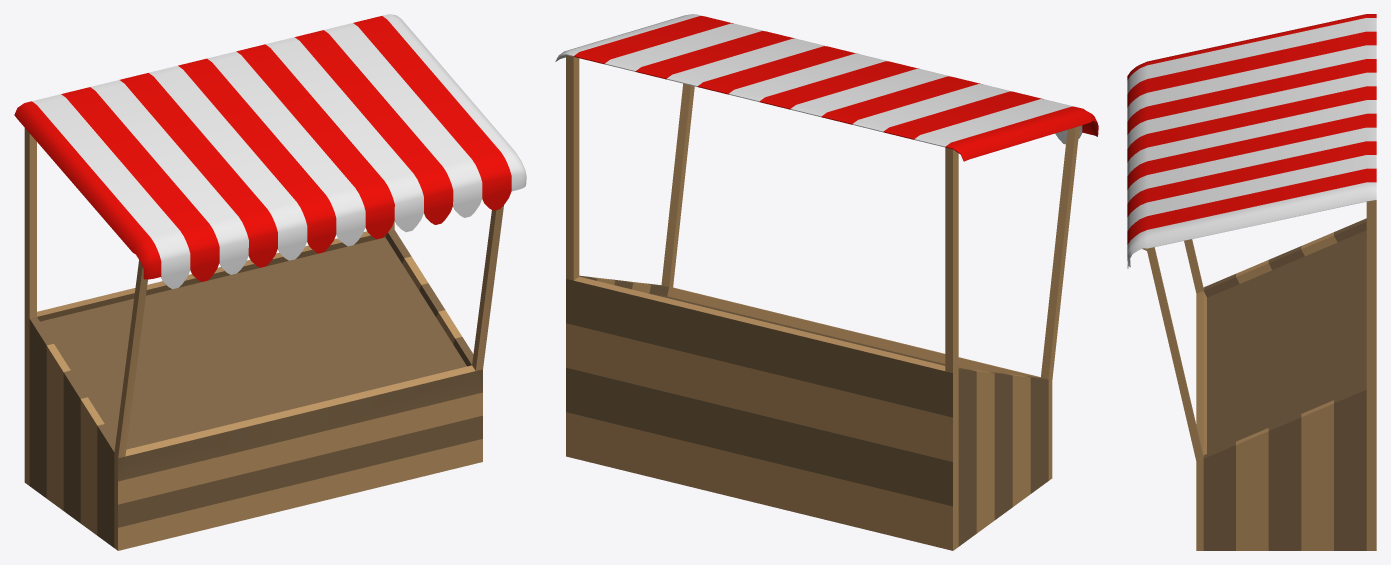
File: WoodenStand.fbx
3 views of the same model, side by side, from view 1: azimuth 30°, elevation 25°; view 2: azimuth 150°, elevation 25°; view 3: azimuth 270°, elevation 25° (orthographic). The views are drawn at different scales.
Visible parts, largest first — view 1: Stall; view 2: Stall; view 3: Stall.
Boxes of the visible parts, box(x1,y1,x2,y2) form: Stall: box(14, 14, 526, 550); Stall: box(555, 14, 1098, 550); Stall: box(1127, 14, 1376, 550).
Size of the model in its own units: 716 by 671 by 415.
